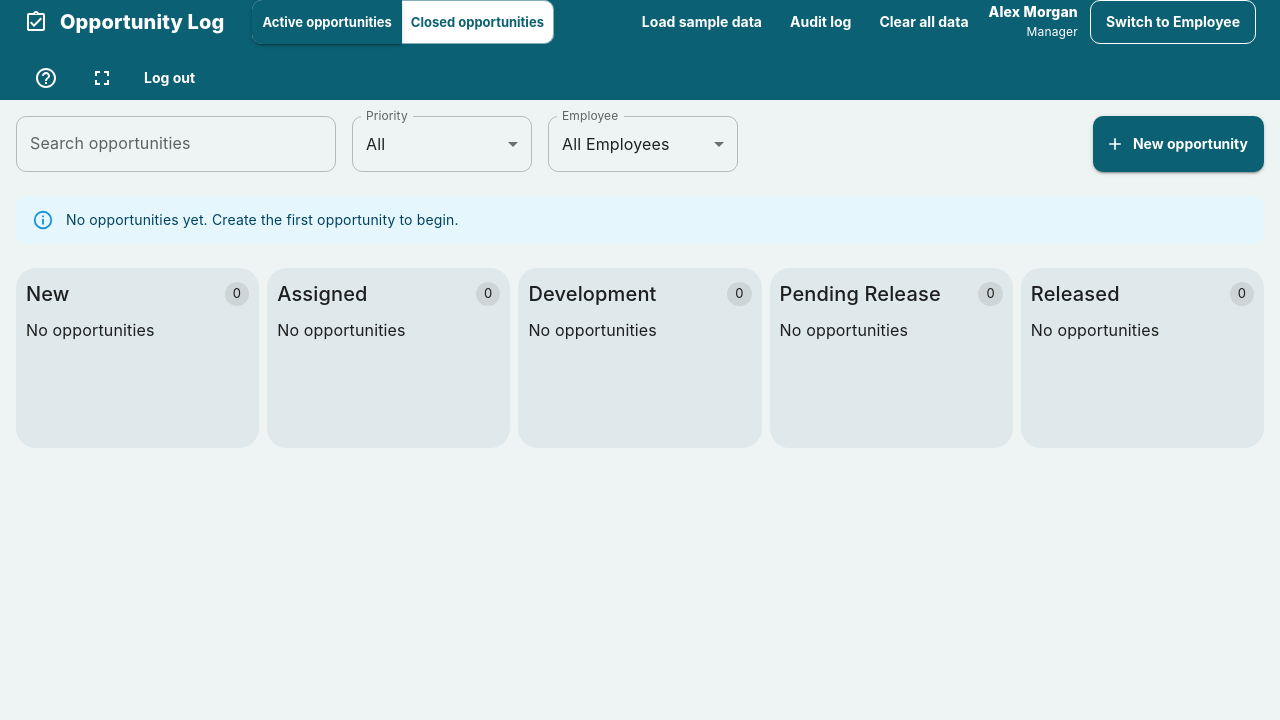
Test: login and application shell › keeps demo controls manager-only, deduplicates samples, shows audit, and clears all history
Click the button "Load sample data" at {"x": 702, "y": 22}, box [634,0,770,44]
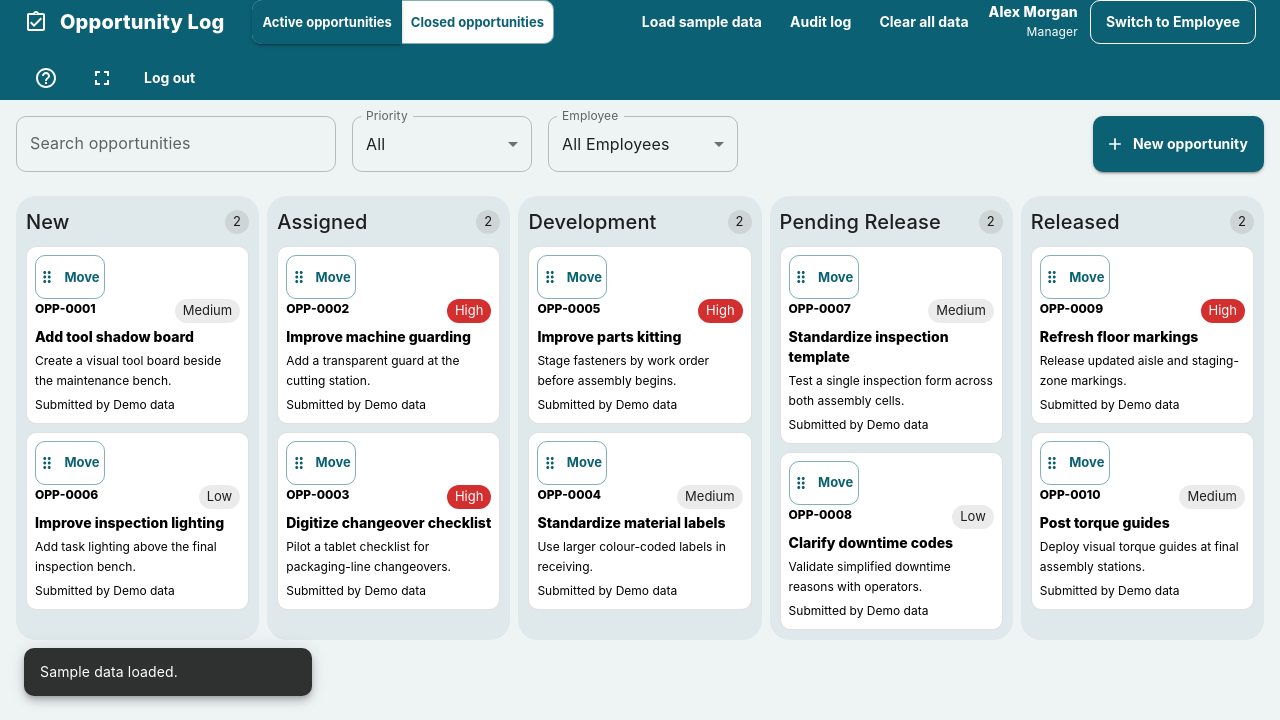
Click the button "Load sample data" at {"x": 702, "y": 22}, box [634,0,770,44]
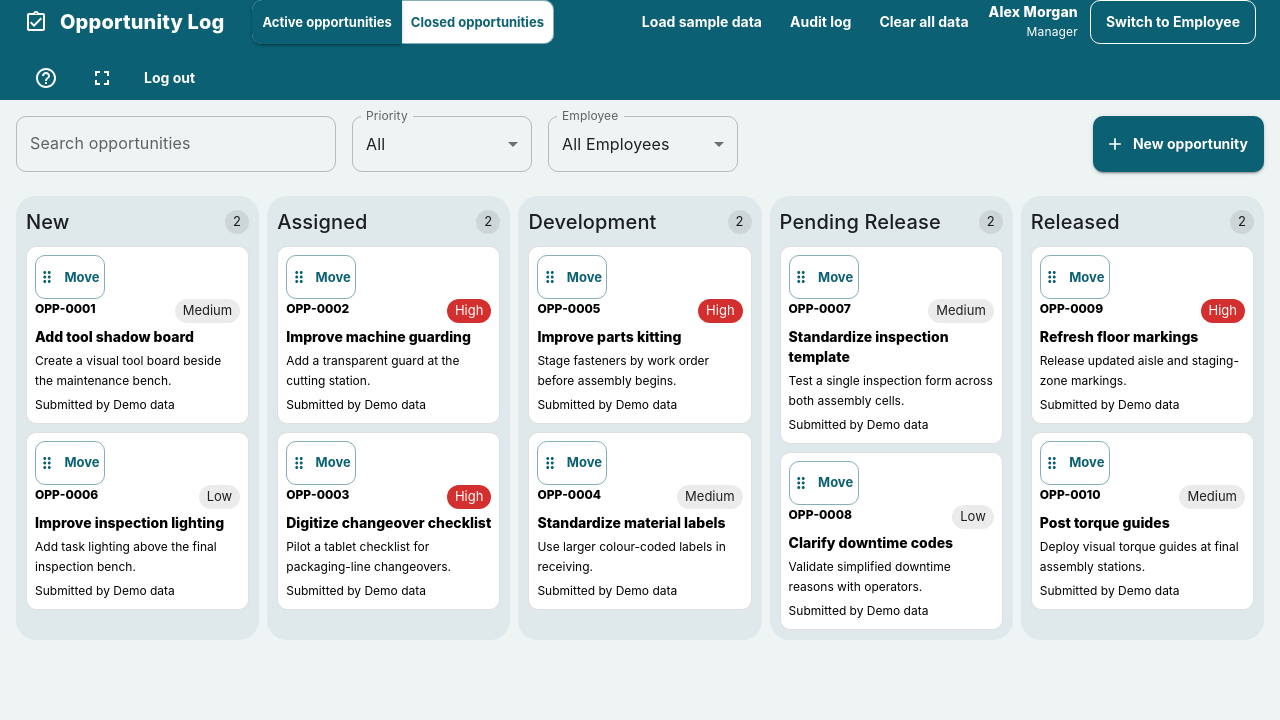
Click the button "Audit log" at {"x": 821, "y": 22}, box [782,0,860,44]
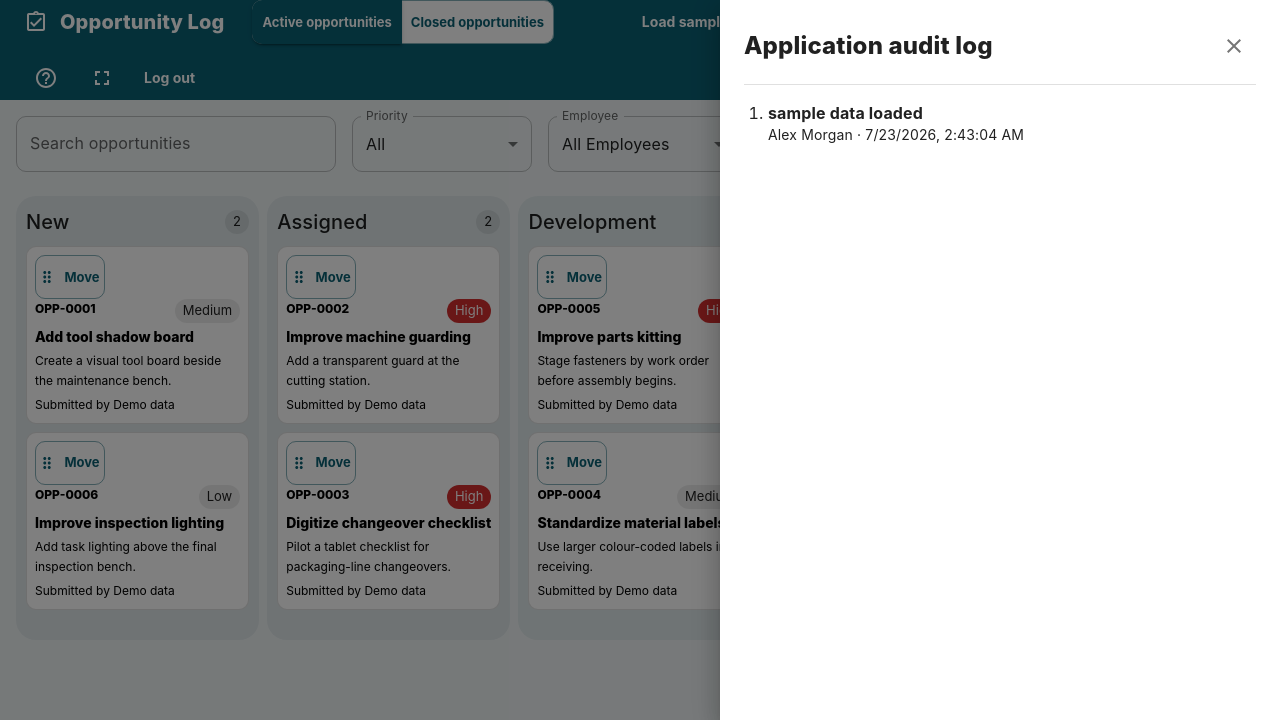
Result: the text "sample data loaded" is shown at [768,103,923,123]
Click the button named "close audit log" at {"x": 1234, "y": 46}, box [1212,24,1256,68]
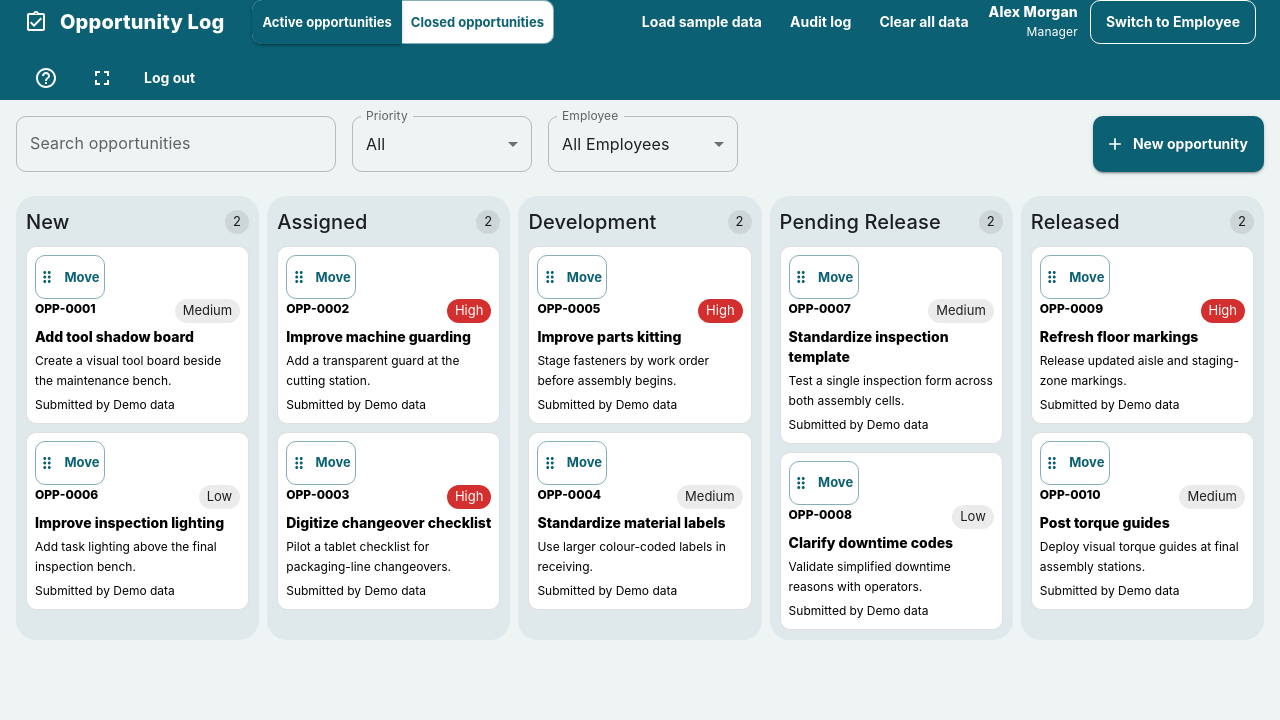
Result: the heading "Application audit log" is gone
Click the button "Clear all data" at {"x": 924, "y": 22}, box [871,0,976,44]
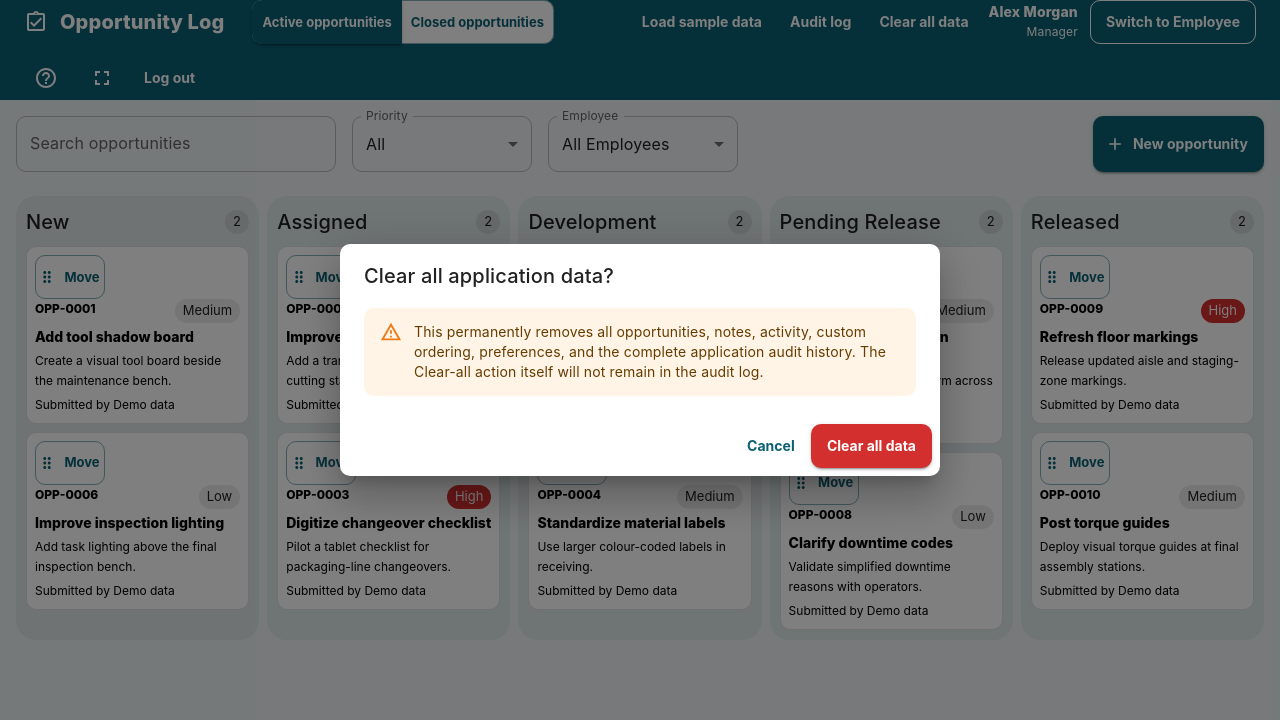
Result: the text "complete application audit history" is shown at [414,323,886,380]
Click the button "Clear all data" at {"x": 871, "y": 446}, box [811,424,932,468]
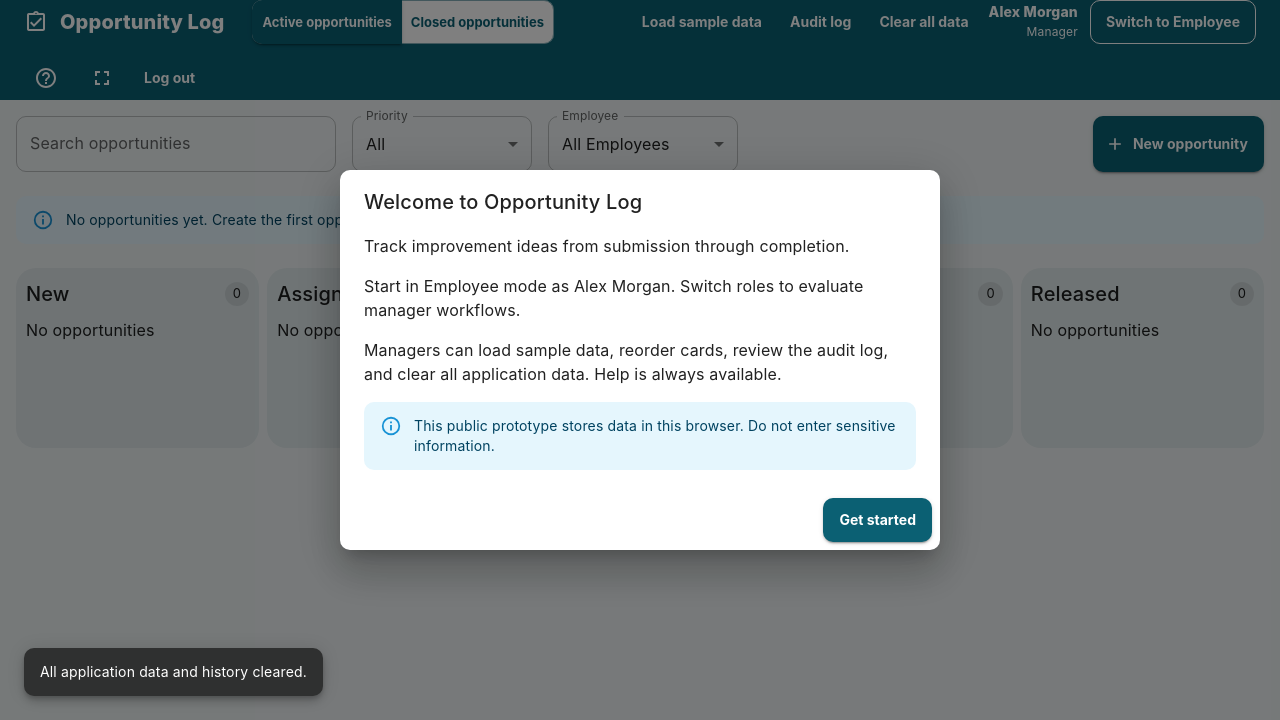
Result: the text "All application data and history cleared." is shown at [40,663,307,680]
